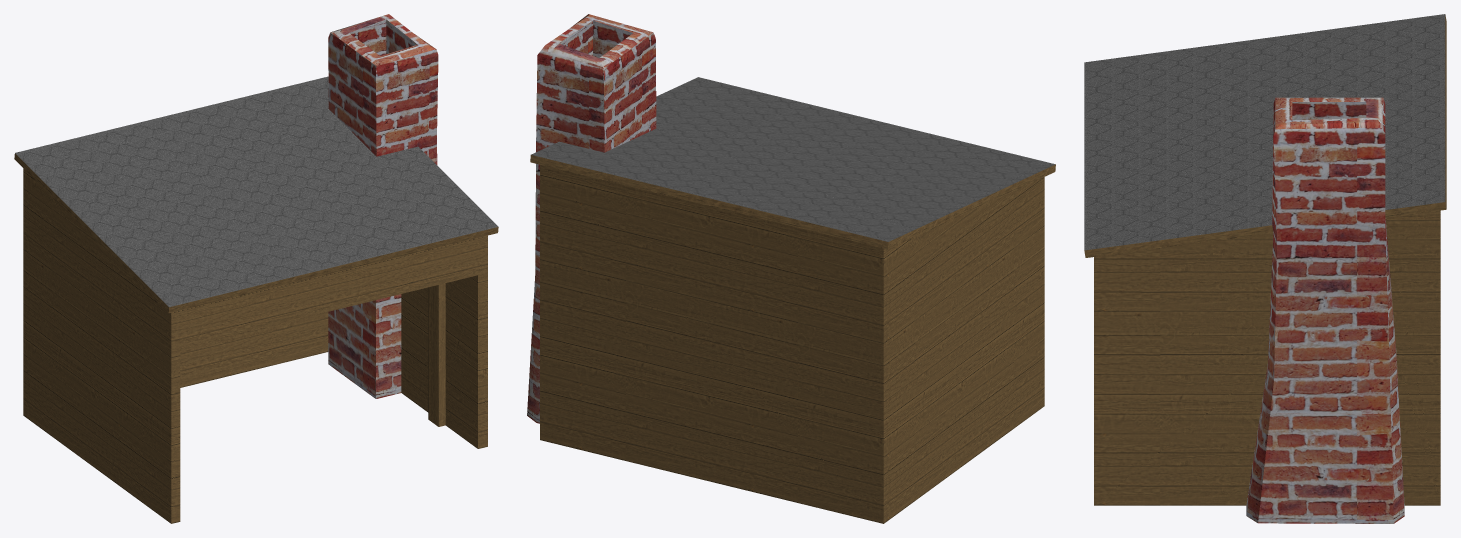
File: paja.FBX
3 views of the same model, side by side, from view 1: azimuth 30°, elevation 25°; view 2: azimuth 150°, elevation 25°; view 3: azimuth 270°, elevation 25° (orthographic). The views are drawn at different scales.
Visible parts, largest first — view 1: paja; view 2: paja; view 3: paja.
Boxes of the visible parts, left/top/right/bottom form: paja: left=14, top=14, right=498, bottom=523; paja: left=527, top=14, right=1055, bottom=523; paja: left=1084, top=14, right=1446, bottom=523.
Bounding box in the file's own units: 221 × 167 × 201.
